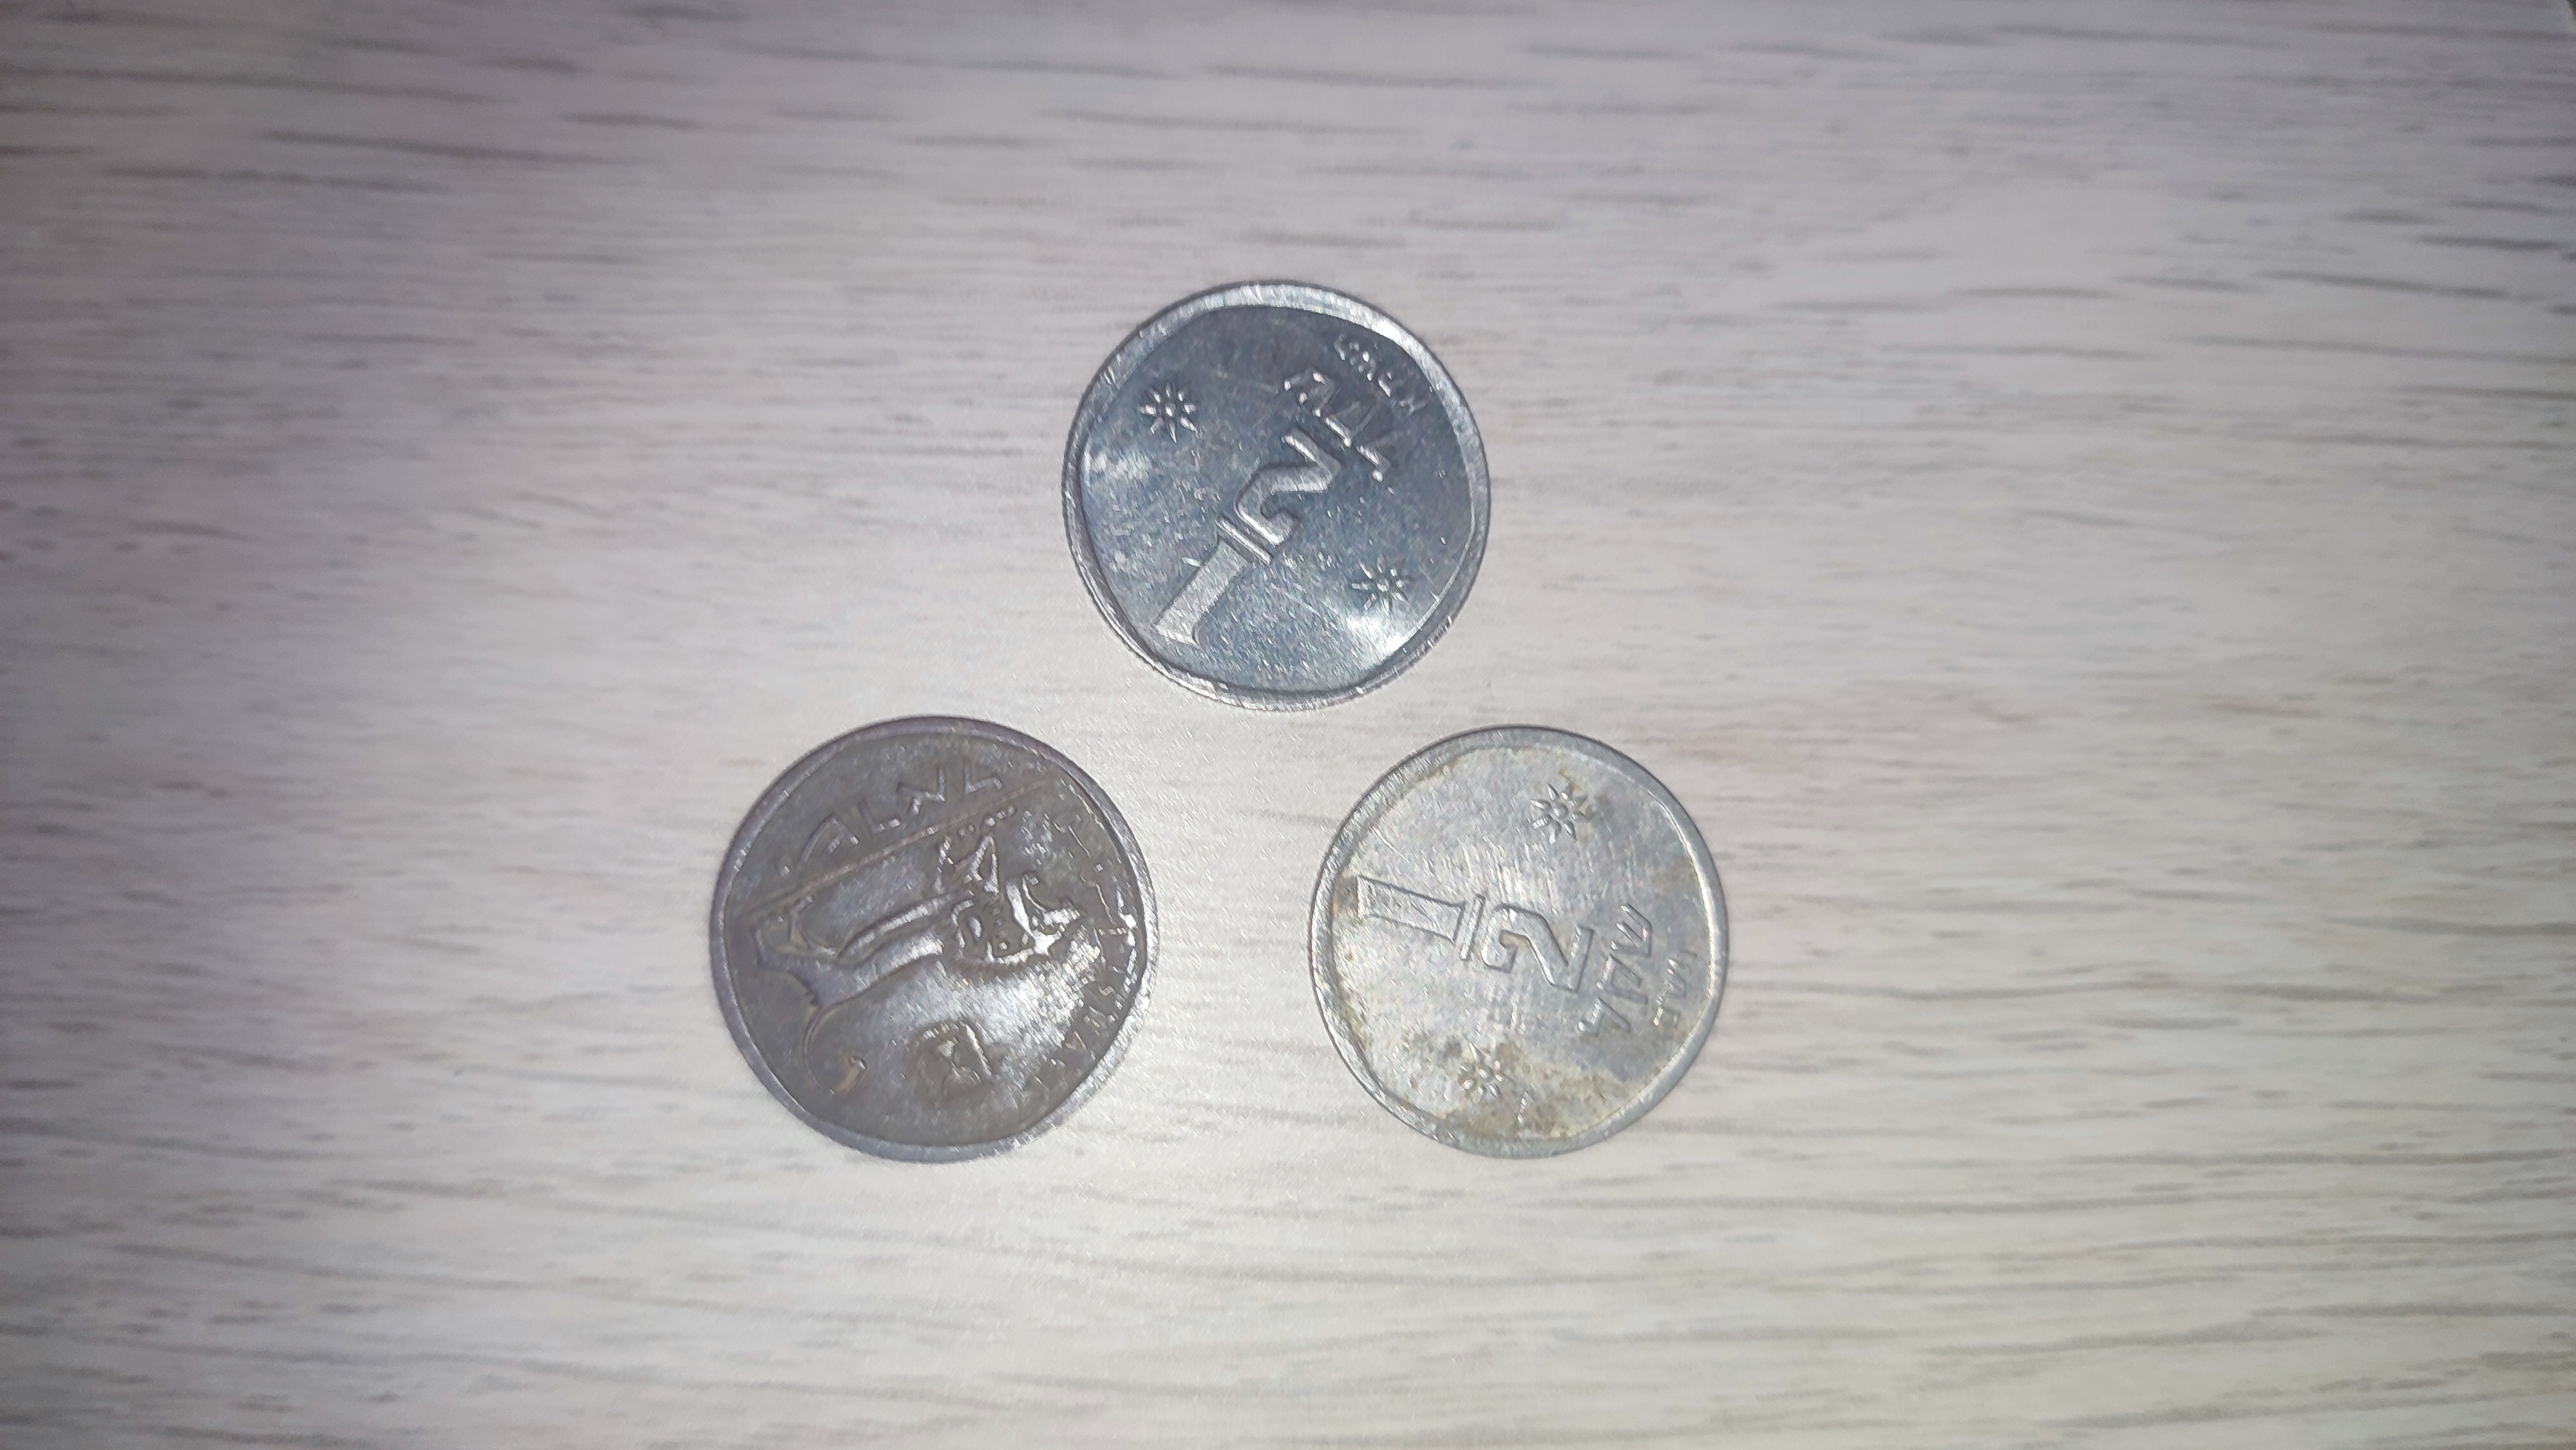1/2 old sheqel: (694, 706, 1171, 1169), (1053, 271, 1500, 727), (1300, 720, 1737, 1167)
